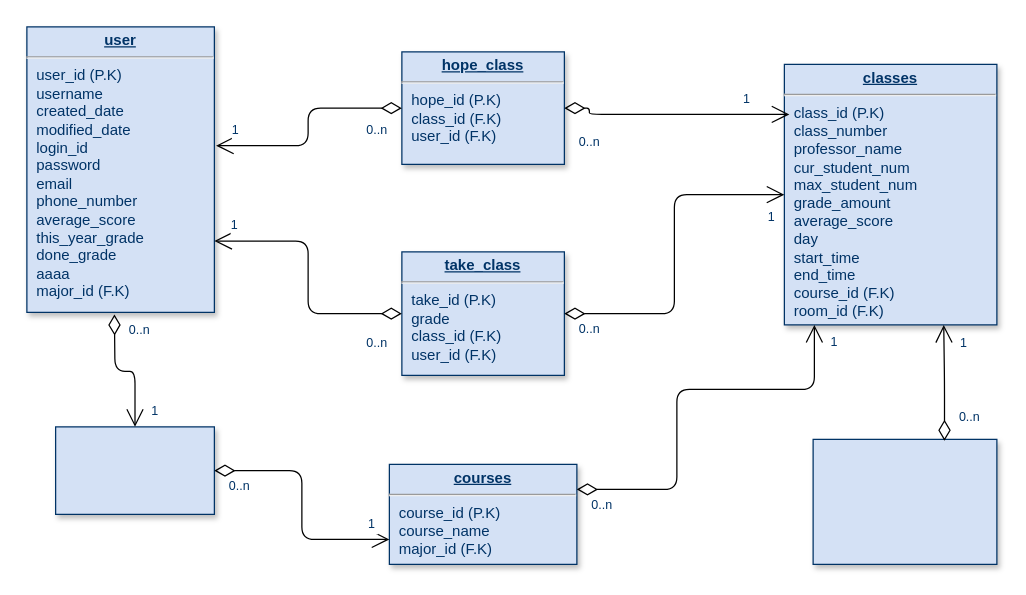
The diagram is 1026 pixels wide and 595 high, and some of its shapes have lost their labels. Each missing label, with the centre of its shape:
"major major_id major_name" goes at point 135,472.
"room room_id (P.K) room_no building_name max_person" goes at point 905,503.
